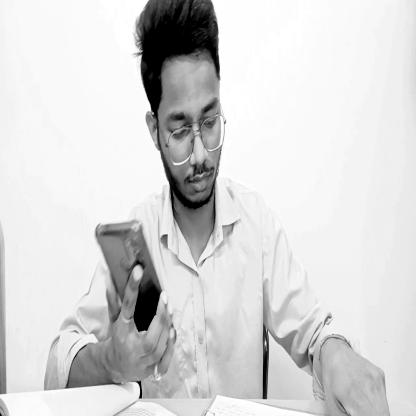Distracted: (138, 4, 230, 218)
